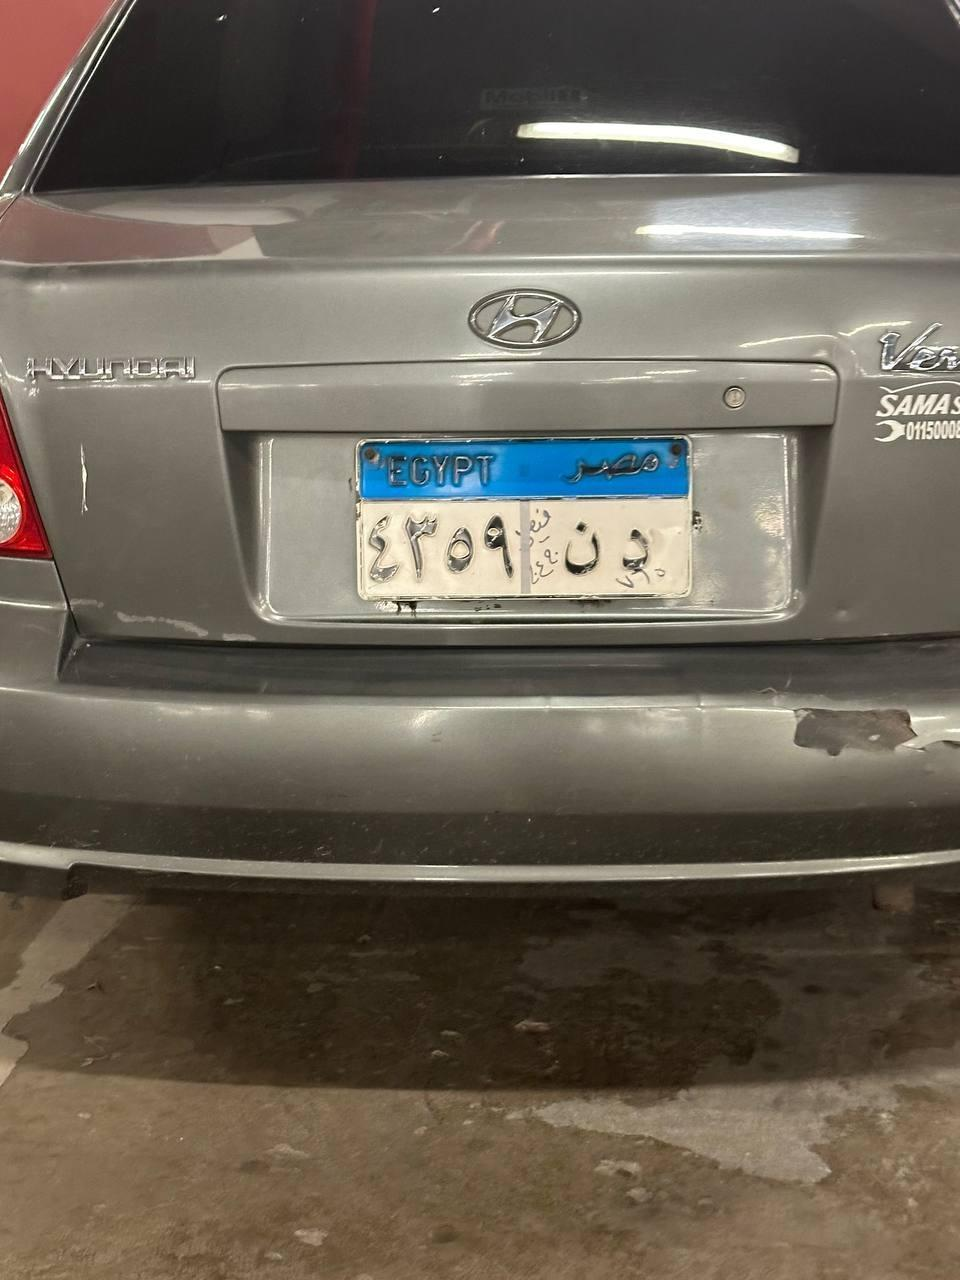3: (402, 506, 438, 584)
4: (367, 514, 398, 592)
5: (444, 524, 476, 574)
9: (479, 514, 521, 578)
License Plate: (351, 436, 688, 622)
Noon: (563, 510, 603, 576)
daal: (618, 521, 656, 574)
